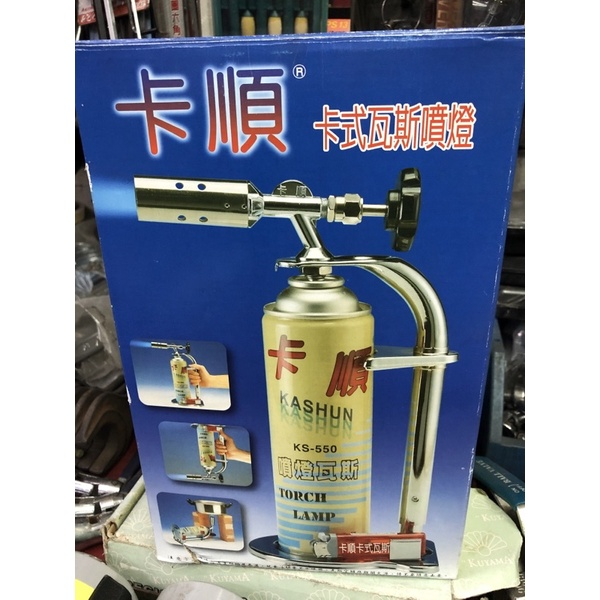gastorch: (131, 177, 444, 570)
